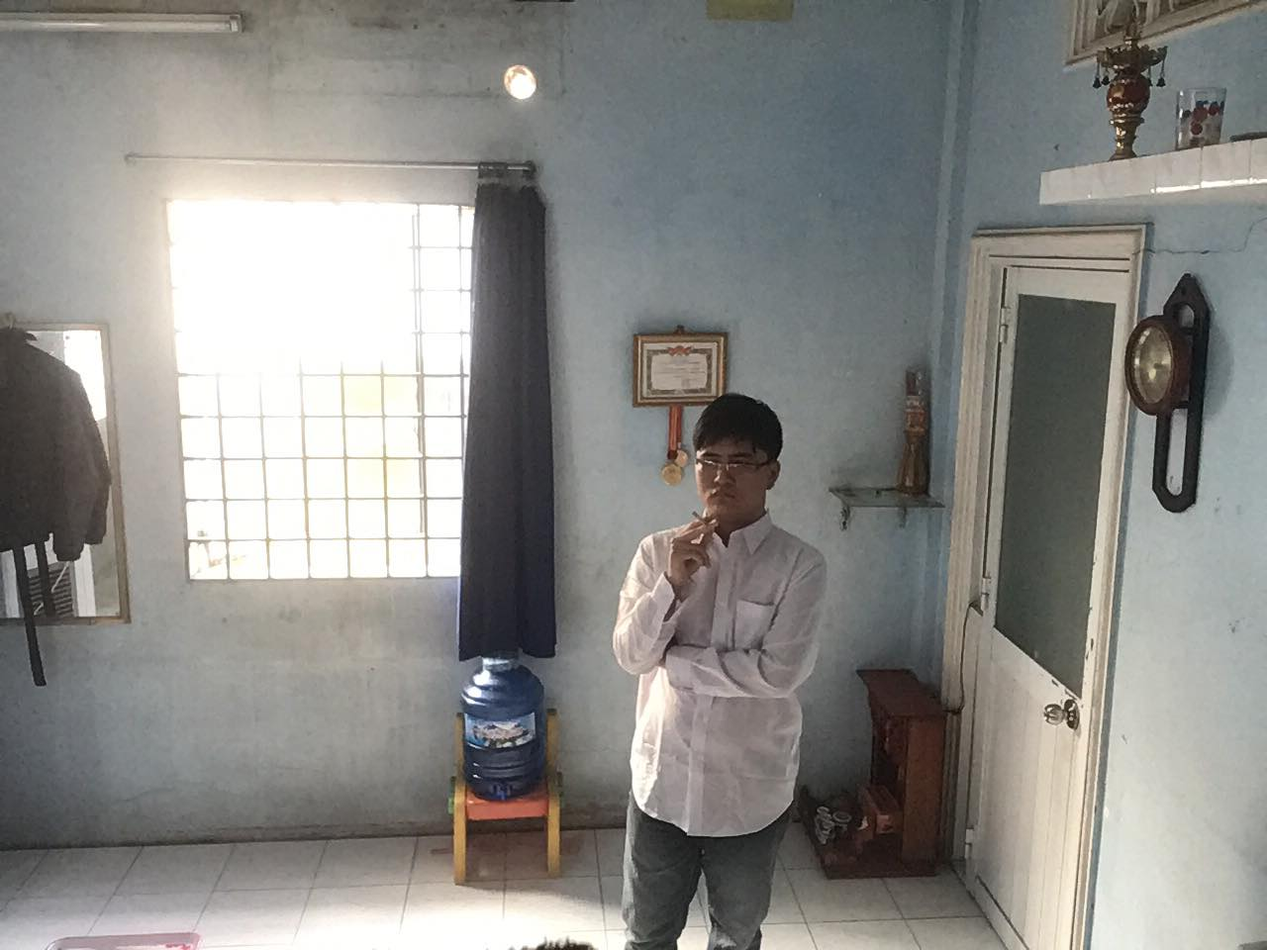cigarette: (691, 499, 711, 529)
person: (577, 365, 855, 950)
